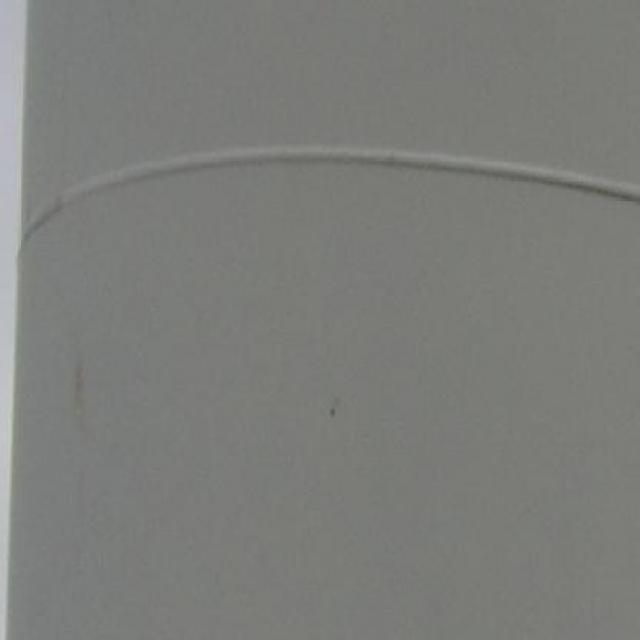Crack: (328, 392, 340, 419)
